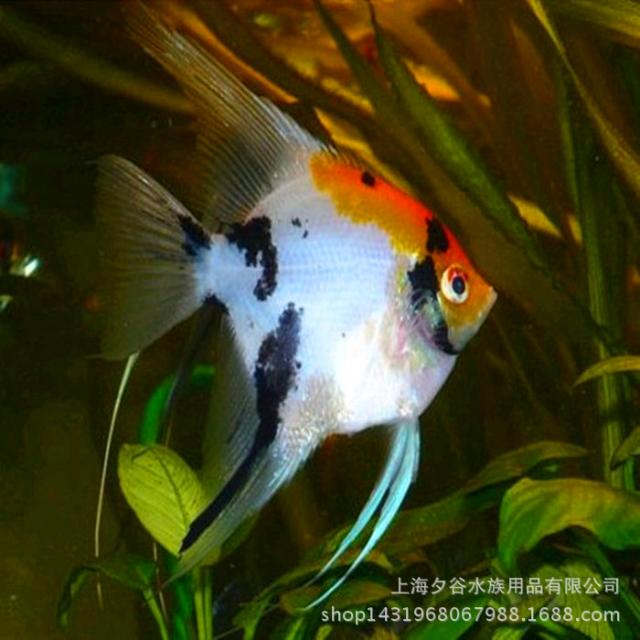AngelFish: (82, 16, 508, 607)
